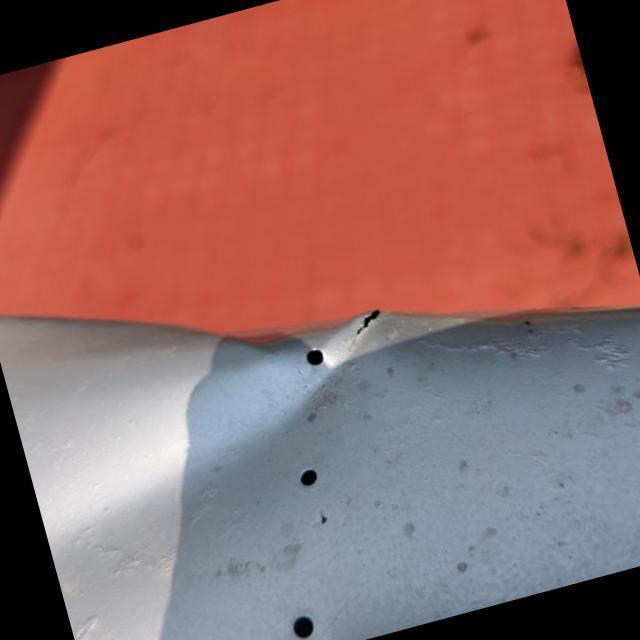Dent: (35, 207, 448, 528)
Rupture: (324, 286, 408, 370)
